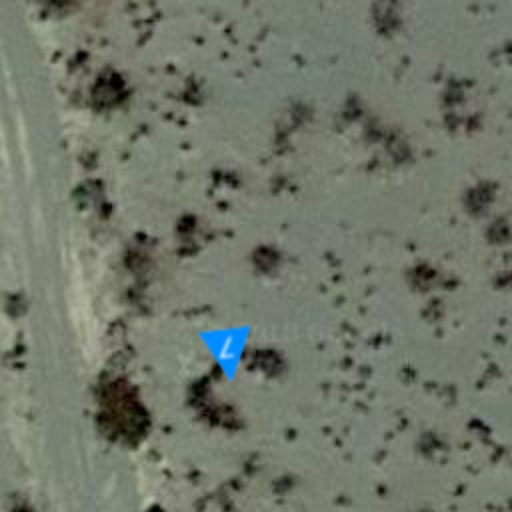triangle: (196, 324, 260, 388)
